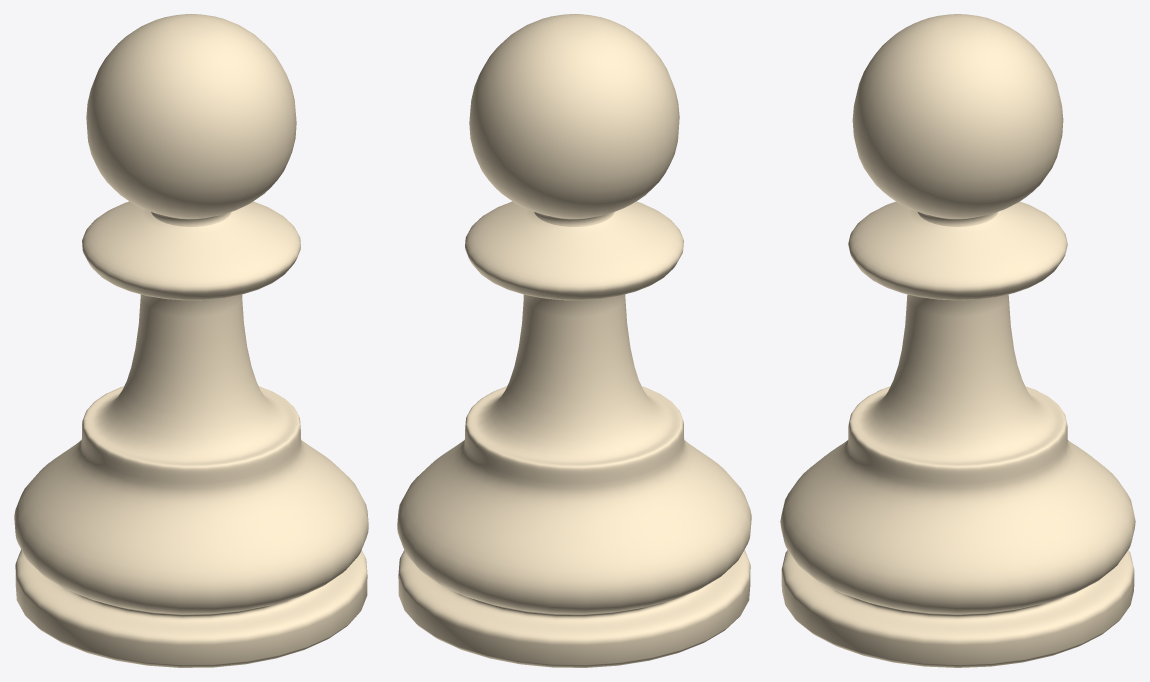
File: Pawn.fbx
3 views of the same model, side by side, from view 1: azimuth 30°, elevation 25°; view 2: azimuth 150°, elevation 25°; view 3: azimuth 270°, elevation 25° (orthographic).
Parts seen in each view (by area): view 1: Pawn; view 2: Pawn; view 3: Pawn.
Boxes of the visible parts, x1,y1,x2,y2 form: Pawn: (14, 14, 368, 667); Pawn: (397, 14, 751, 667); Pawn: (780, 14, 1135, 667).
Size of the model in its own units: 45.83 by 82.31 by 45.83.
